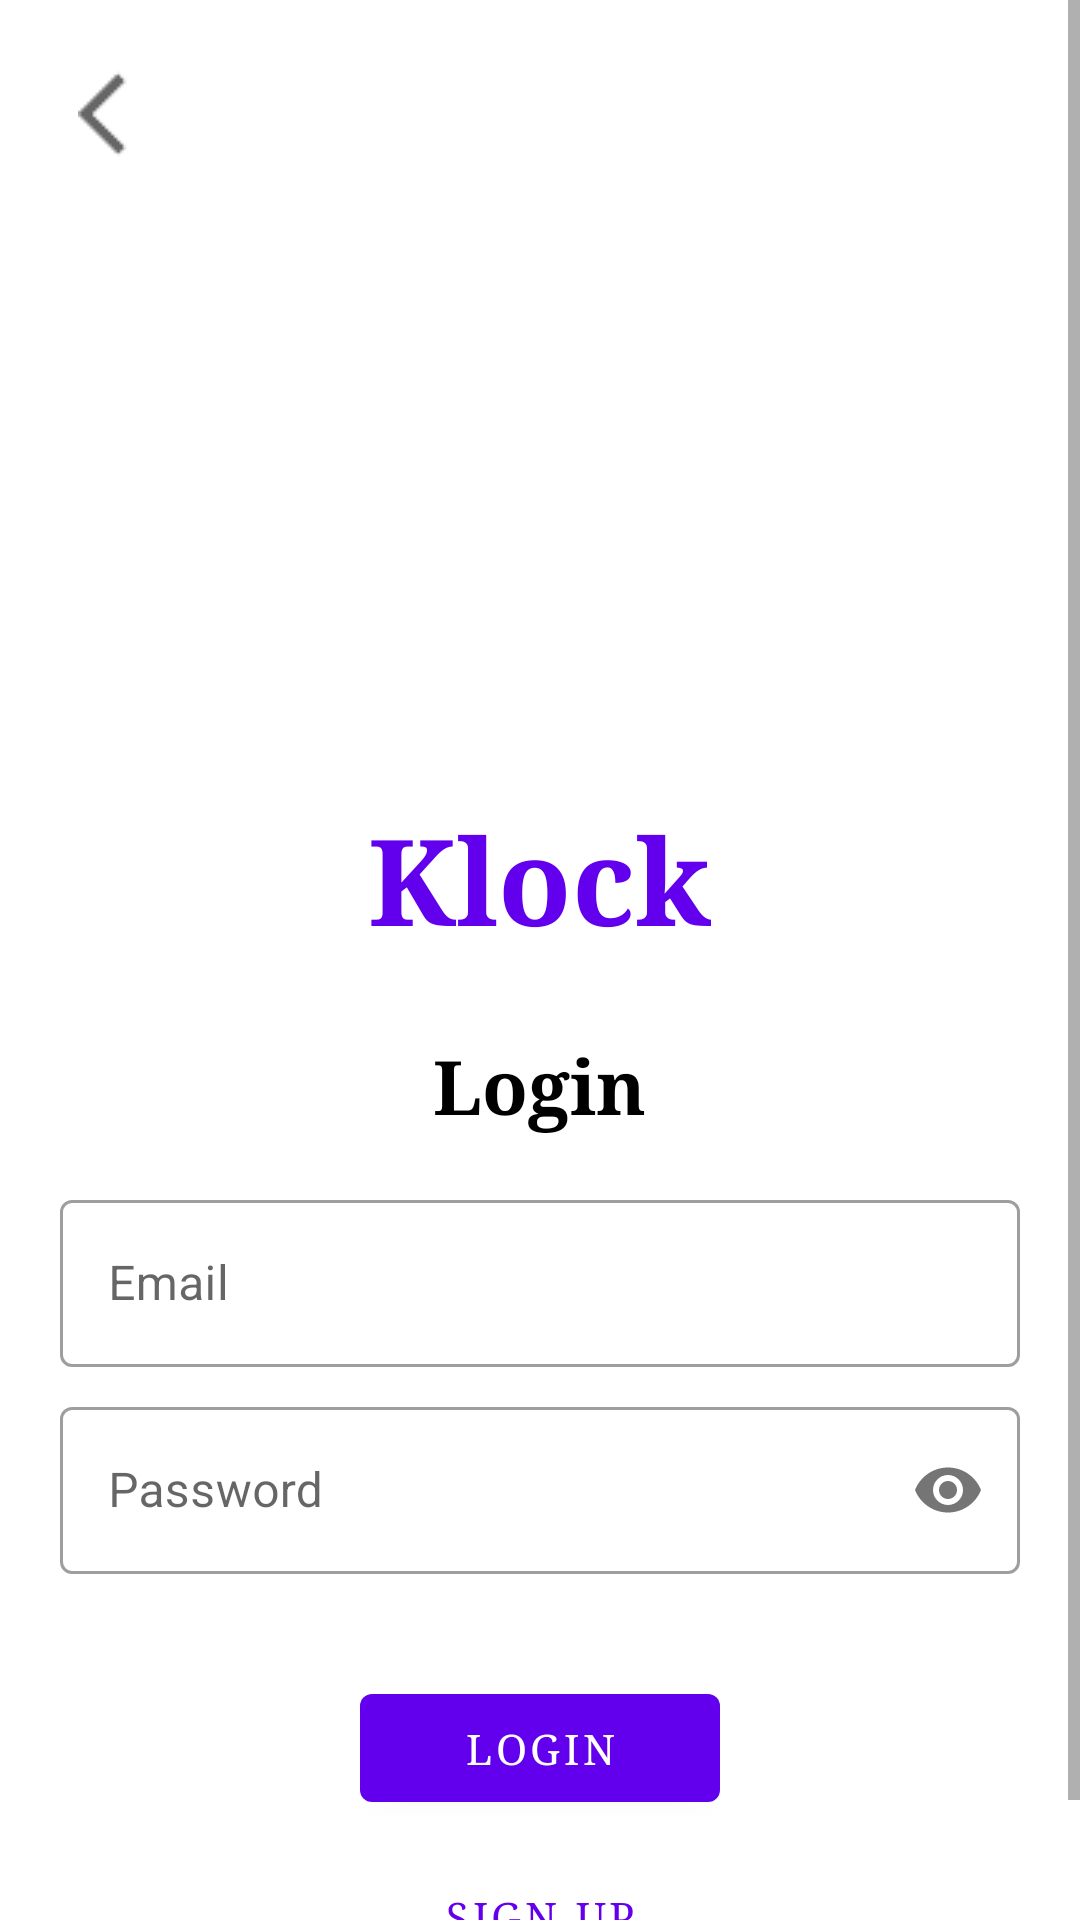

Where to tap for icons on this 1080×1920 app screen, as point (x, y):
arrowleft: point (102, 114)
